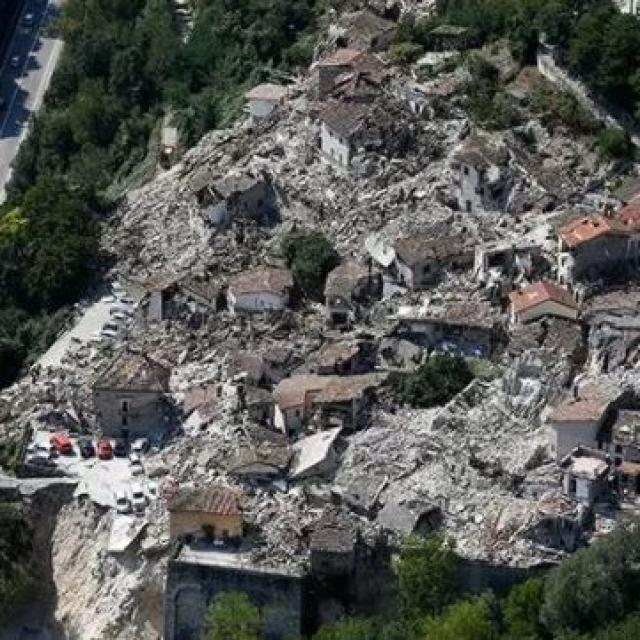collapsed_building: (7, 388, 225, 512), (432, 236, 586, 373), (126, 160, 269, 274), (285, 128, 415, 252), (200, 278, 362, 364), (362, 431, 469, 552), (444, 119, 590, 207), (243, 393, 356, 503), (461, 382, 558, 482), (386, 30, 493, 114)
